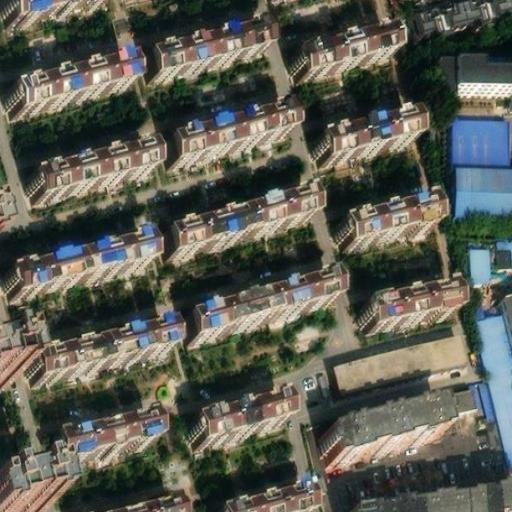building: (181, 273, 338, 340), (159, 190, 314, 256), (26, 320, 170, 382), (4, 235, 151, 295), (333, 327, 468, 388), (163, 108, 291, 165), (26, 145, 155, 201), (320, 406, 439, 463), (470, 300, 512, 460), (143, 24, 268, 77), (6, 57, 130, 109), (289, 25, 397, 77), (55, 416, 160, 464), (311, 111, 413, 159), (337, 198, 435, 247), (185, 395, 283, 443), (358, 283, 451, 324), (363, 490, 512, 512), (455, 159, 512, 214), (453, 111, 511, 160), (64, 489, 185, 512), (420, 0, 512, 27), (212, 488, 305, 512), (456, 55, 512, 86), (429, 382, 476, 415), (469, 240, 491, 275), (438, 45, 457, 85), (0, 487, 29, 512), (497, 234, 512, 260)
